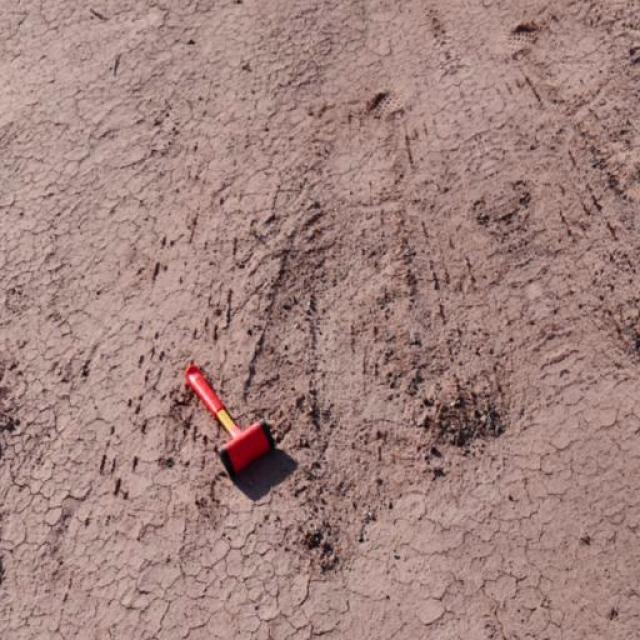mallet: (185, 361, 276, 475)
